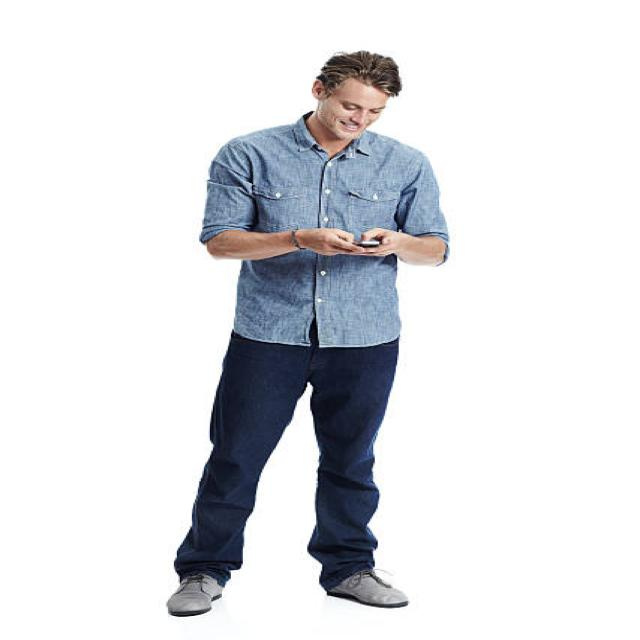Edited images: (135, 36, 499, 624)
